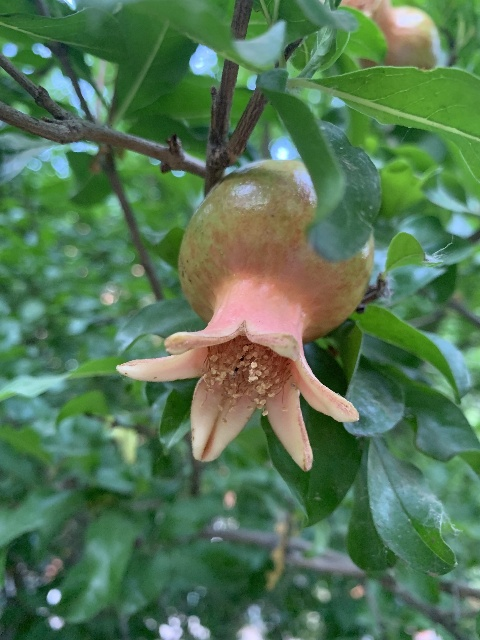early-fruit: (116, 159, 371, 471), (340, 0, 439, 70)
